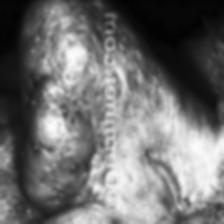Non-Cancerous Skin Condition: (25, 16, 96, 196)
